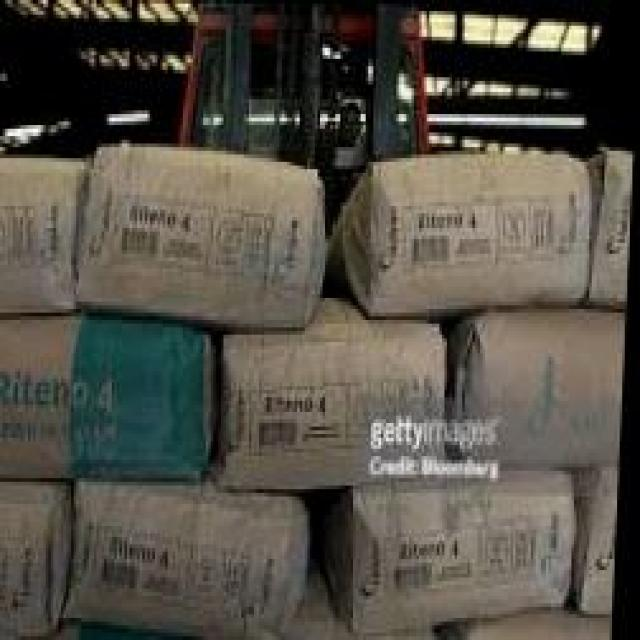gunny_bag: (84, 148, 316, 320), (349, 461, 582, 630), (226, 322, 451, 488), (77, 488, 312, 639), (372, 151, 587, 314), (0, 319, 206, 482), (461, 315, 628, 465), (0, 160, 87, 311), (0, 482, 76, 636), (588, 145, 635, 307), (579, 460, 623, 621)
